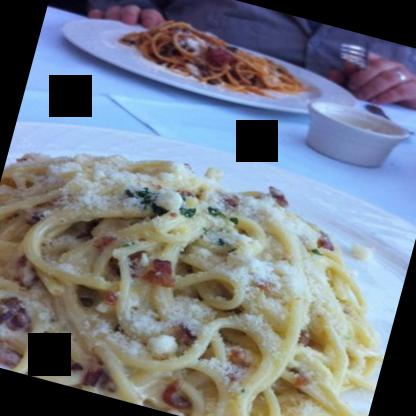pasta: (0, 126, 381, 415)
